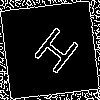H: (25, 25, 82, 84)
